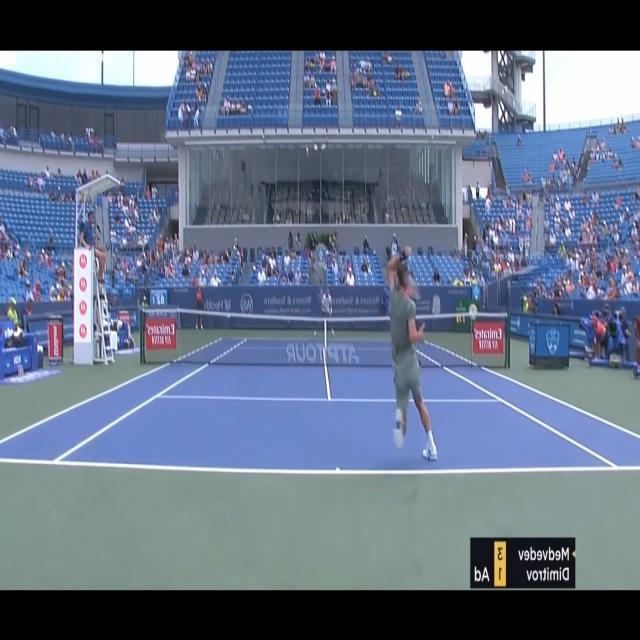court: (0, 337, 640, 476)
net: (138, 311, 512, 369)
player: (386, 244, 438, 462)
